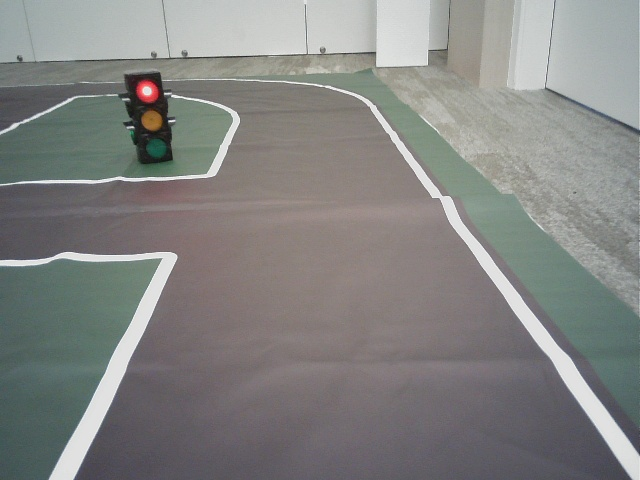red: (132, 75, 170, 160)
